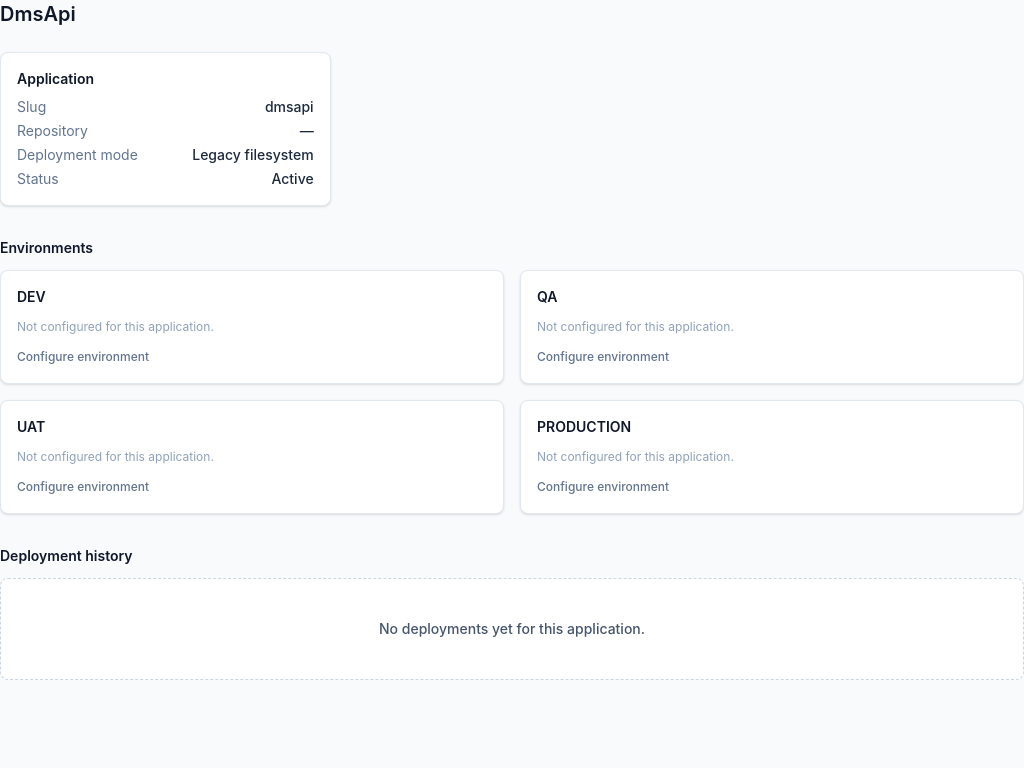
it: ApplicationDetailsPage › new environment configuration — pre-filled from convention › defaults "down -v before each deploy" to checked for a brand-new configuration
The width and height of the screenshot is (1024, 768).
What coordinates should you click on to do the following:
click the button "Configure environment" below "DEV"
I would click on:
 (83, 357)
Its box is [17, 349, 149, 365].
(page scrolled)
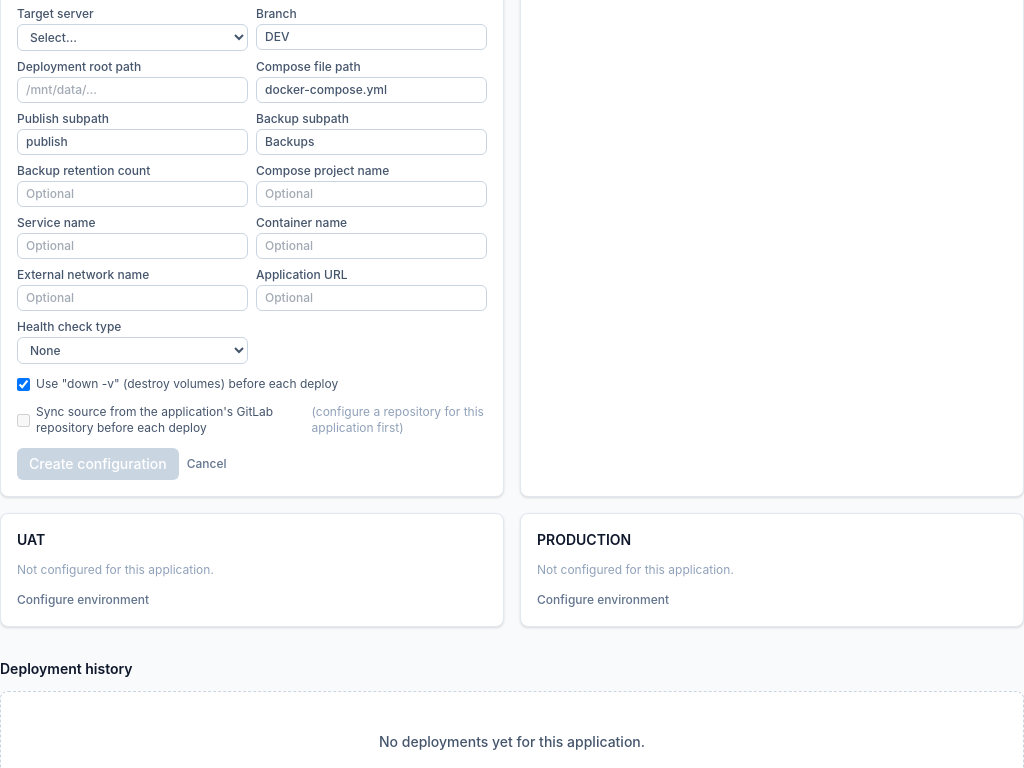
Check: the checkbox labelled "Use \"down -v\" (destroy volumes) before each deploy" is checked, box [17, 378, 30, 390]
